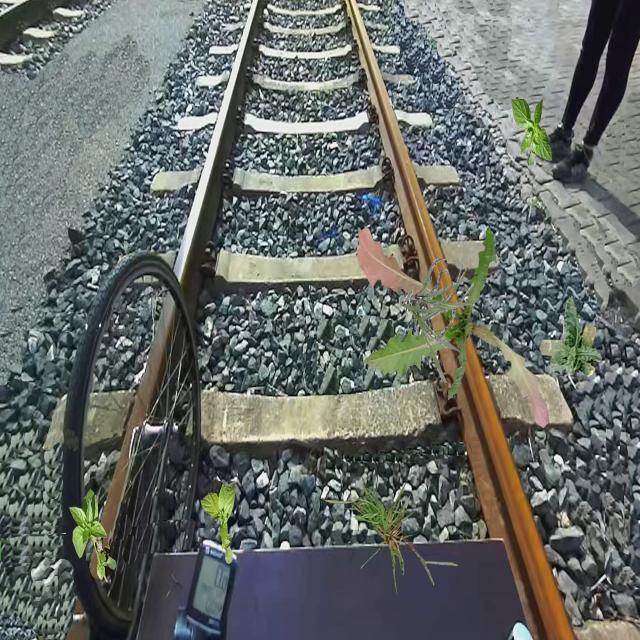Plant: (356, 226, 548, 428), (315, 477, 458, 596), (402, 258, 475, 382), (539, 294, 602, 377), (69, 488, 117, 583), (511, 96, 552, 167), (200, 481, 235, 564)
